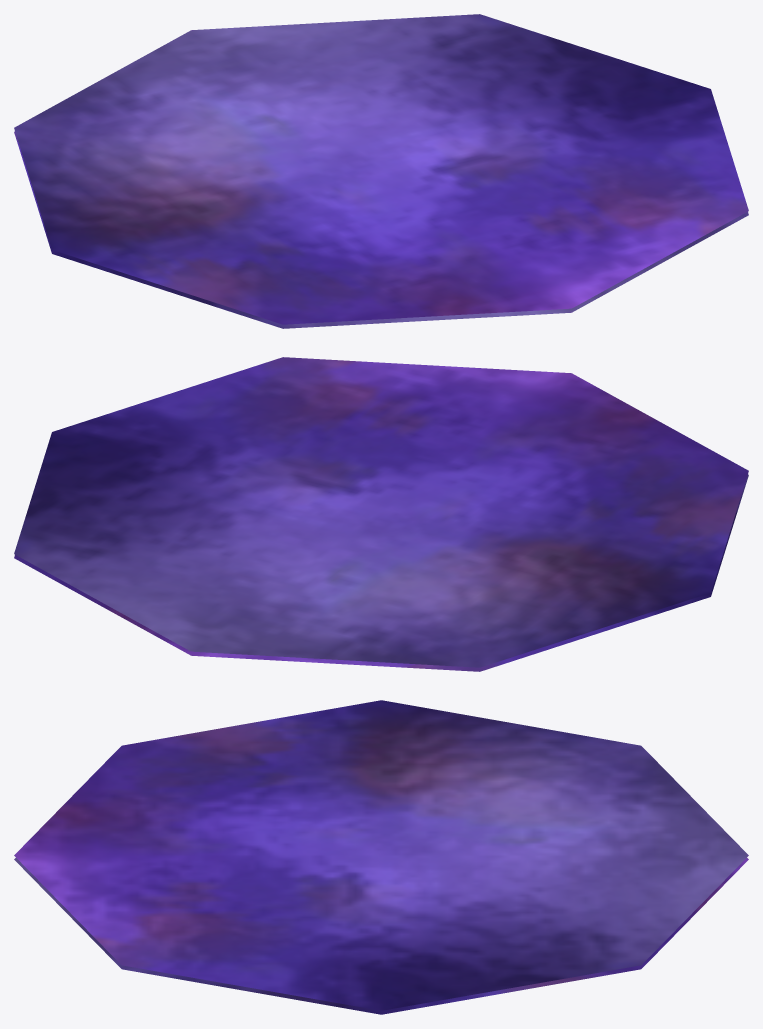
Rendered from ncwater.glb.
3 views of the same model, one above another, from view 1: azimuth 30°, elevation 25°; view 2: azimuth 150°, elevation 25°; view 3: azimuth 270°, elevation 25° (orthographic). The views are drawn at different scales.
Visible parts, largest first — view 1: ncwater; view 2: ncwater; view 3: ncwater.
Boxes of the visible parts, box(x1,y1,x2,y2) form: ncwater: box(14, 14, 748, 328); ncwater: box(14, 357, 748, 671); ncwater: box(14, 700, 748, 1014).
Bounding box in the file's own units: 1959 × 11.67 × 1959.
1 material, 1 textured.
